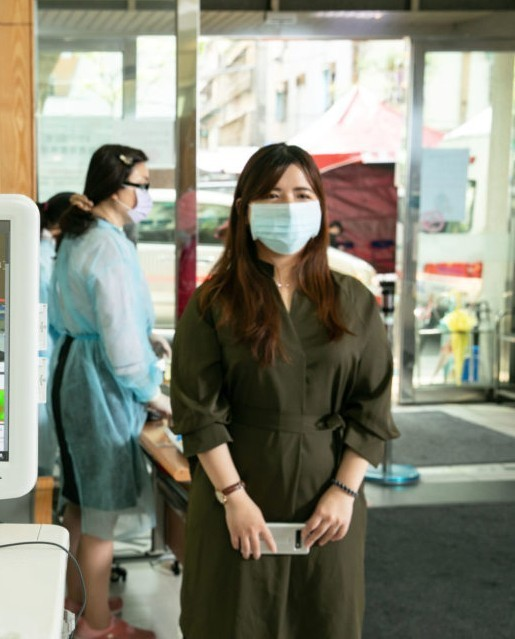with_mask: (241, 156, 325, 252), (93, 152, 161, 229)
